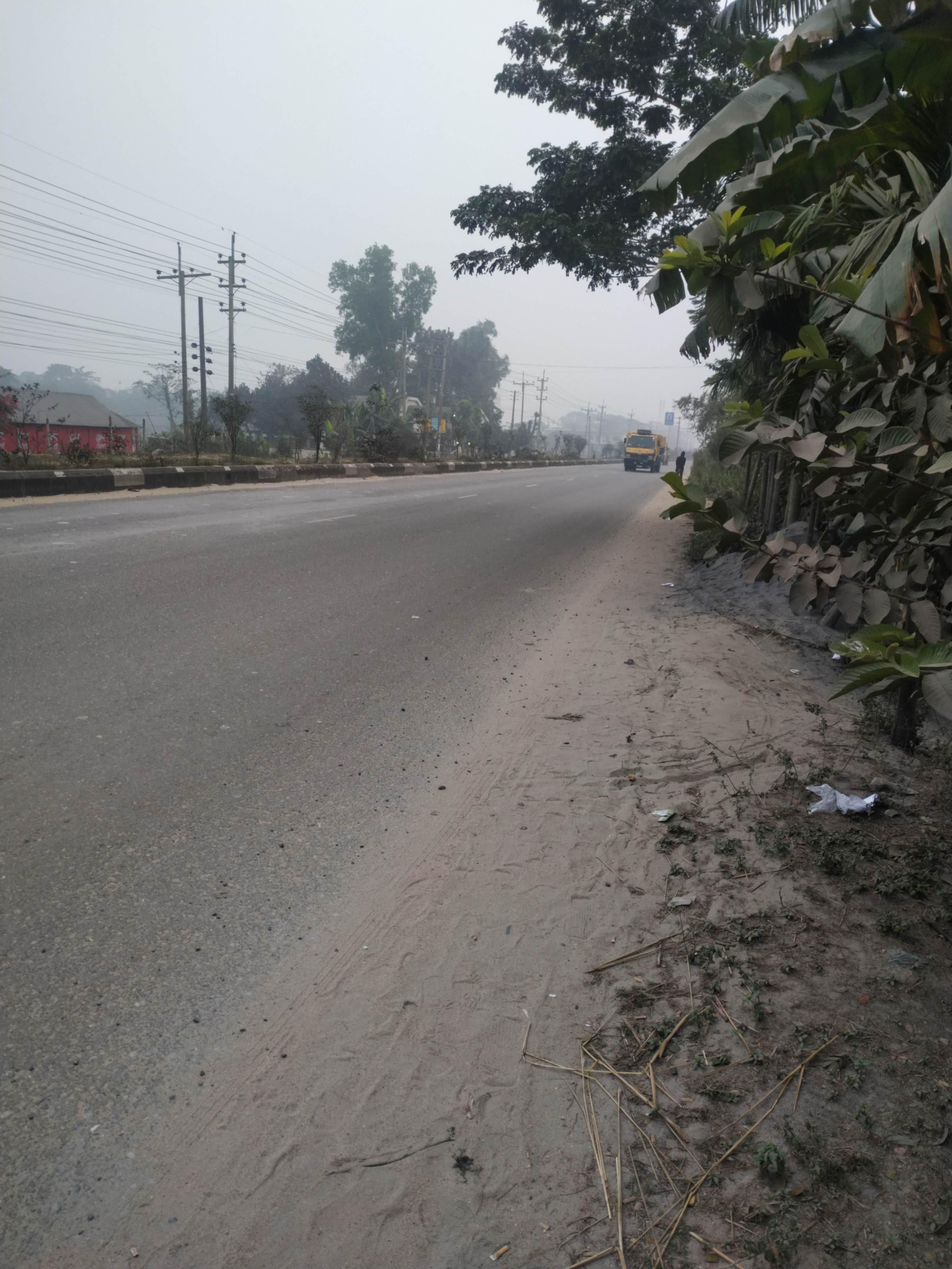Truck: (616, 420, 679, 490)
